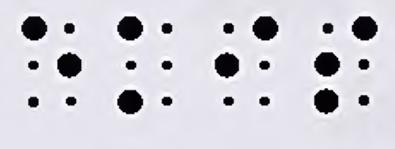e: (21, 15, 80, 108)
i: (216, 15, 278, 110)
k: (118, 14, 174, 115)
s: (314, 16, 378, 116)
